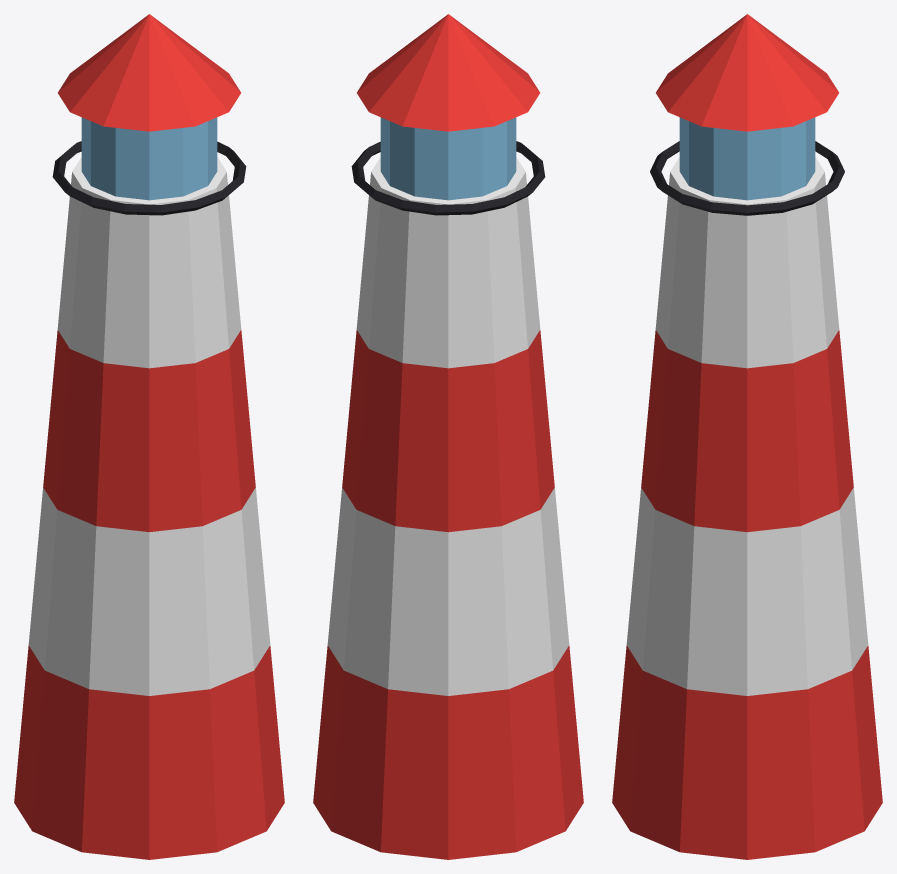
File: lighthouse.glb
The picture shows the model from 3 angles, left to right: view 1: azimuth 30°, elevation 25°; view 2: azimuth 150°, elevation 25°; view 3: azimuth 270°, elevation 25°; orthographic projection.
Visible parts, largest first — view 1: lighthouse; view 2: lighthouse; view 3: lighthouse.
Part boxes in pixels (x1=…): lighthouse: x1=14, y1=14, x2=284, y2=859; lighthouse: x1=313, y1=14, x2=583, y2=859; lighthouse: x1=612, y1=14, x2=882, y2=859.
Bounding box in the file's own units: 2.8 × 9 × 2.8.
